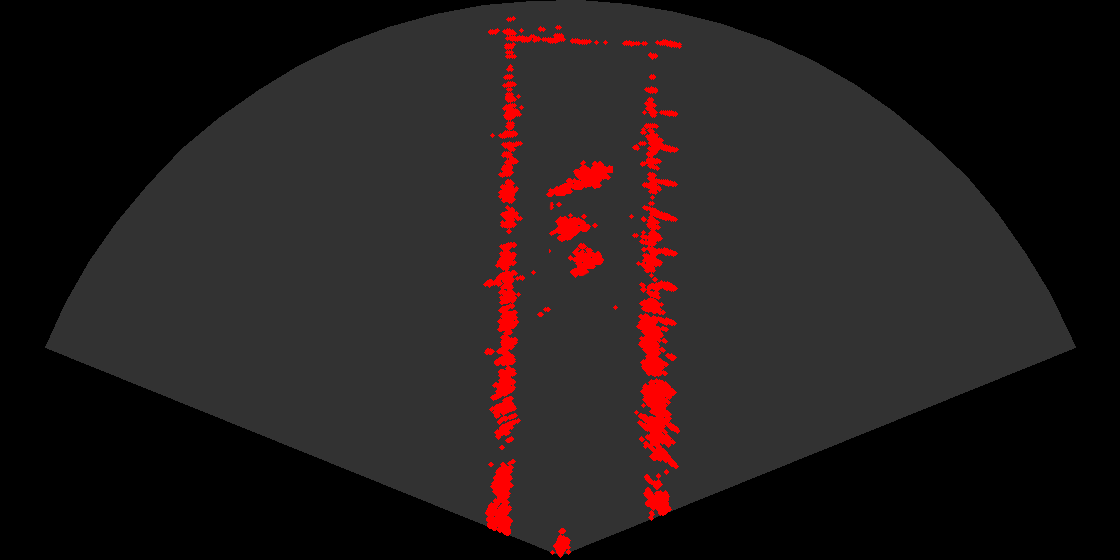cage: (549, 202, 612, 286)
frogman: (545, 154, 613, 201)
